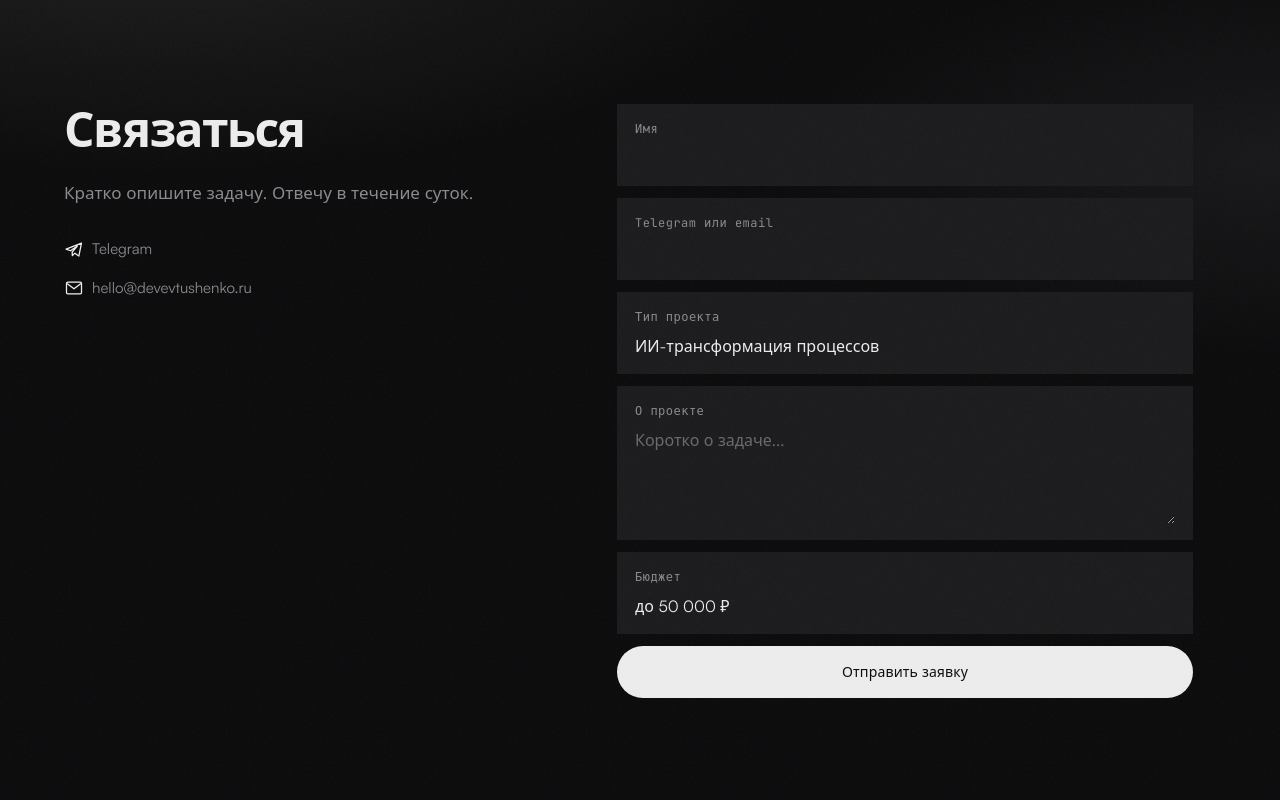
it: Contact › shows validation error when required fields are empty
This screenshot has width=1280, height=800.
What coordinates should you click on to do the following:
click the button "Отправить заявку"
I would click on:
 (905, 672)
Its box is [617,646,1193,698].
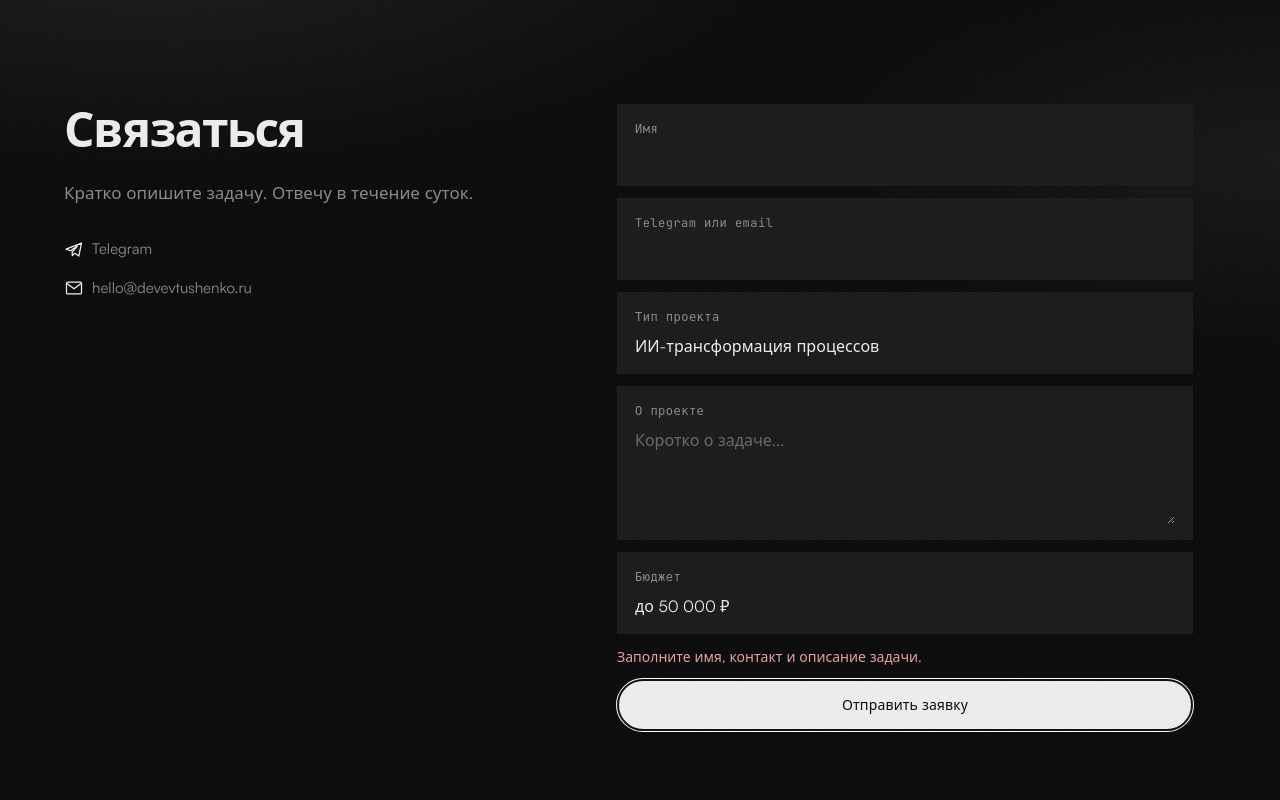
Check: the message reads "Заполните имя, контакт и описание задачи.", box [617,648,922,665]
